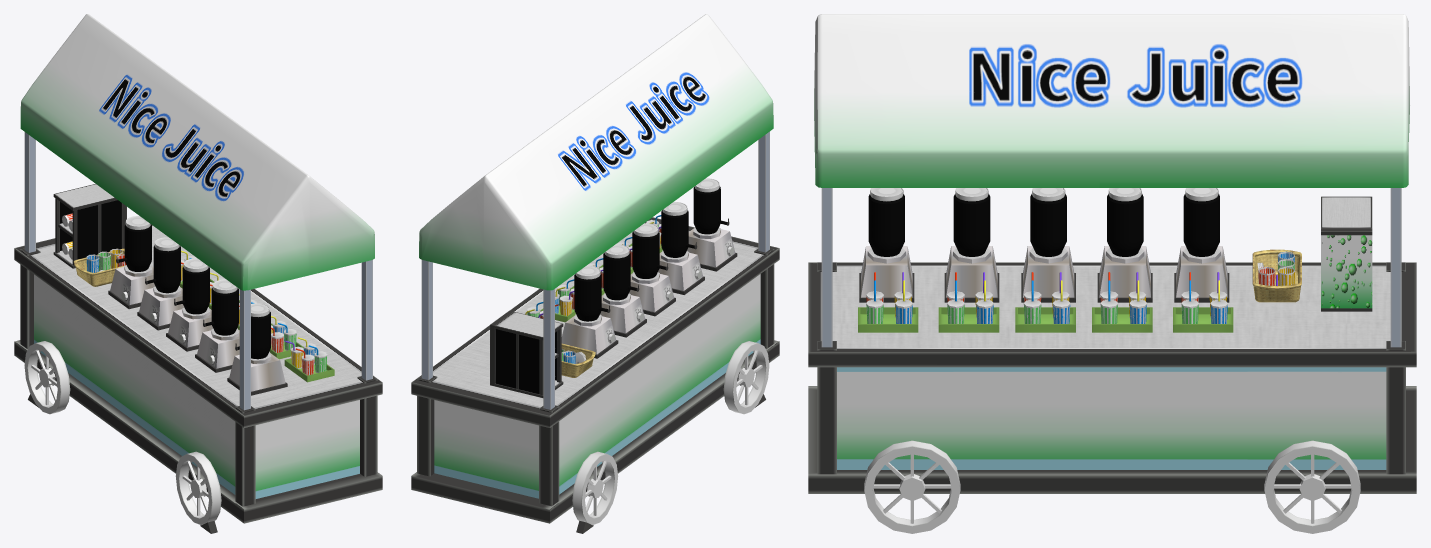
Rendered from JuiceStall.fbx.
3 views of the same model, side by side, from view 1: azimuth 30°, elevation 25°; view 2: azimuth 150°, elevation 25°; view 3: azimuth 270°, elevation 25° (orthographic). The views are drawn at different scales.
Visible parts, largest first — view 1: Roof, Platform, JuiceMixer_Body (×5), JuiceMixer_Glass (×5), PillarB, PillarA, FrontWheel, BackWheel, OtherCase, Glass, Basket, JuiceCup_Case; view 2: Roof, Platform, JuiceMixer_Body (×5), JuiceMixer_Glass (×5), PillarB, PillarA, BackWheel, FrontWheel, OtherCase, Glass, Basket; view 3: Platform, Roof, JuiceMixer_Body (×5), JuiceMixer_Glass (×5), OtherCase, JuiceCup_Case (×5), PillarB, FrontWheel, BackWheel, PillarA, Basket.
Boxes of the visible parts, box(x1,y1,x2,y2) form: Roof: box(20, 14, 374, 290); Platform: box(14, 225, 382, 523); JuiceMixer_Body (×5): box(108, 216, 287, 395); JuiceMixer_Glass (×5): box(118, 224, 270, 359); PillarB: box(20, 224, 377, 509); PillarA: box(24, 132, 372, 410); FrontWheel: box(24, 341, 70, 414); BackWheel: box(175, 451, 221, 524); OtherCase: box(53, 184, 126, 268); Glass: box(77, 200, 121, 259); Basket: box(73, 248, 124, 286); JuiceCup_Case: box(284, 358, 334, 382); Roof: box(419, 14, 773, 290); Platform: box(411, 217, 779, 523); JuiceMixer_Body (×5): box(561, 178, 737, 358); JuiceMixer_Glass (×5): box(574, 186, 727, 321); PillarB: box(417, 219, 774, 509); PillarA: box(421, 131, 769, 409); BackWheel: box(723, 341, 769, 414); FrontWheel: box(572, 451, 618, 524); OtherCase: box(490, 310, 563, 397); Glass: box(495, 329, 539, 394); Basket: box(561, 343, 595, 377); Platform: box(808, 262, 1416, 493); Roof: box(814, 14, 1409, 187); JuiceMixer_Body (×5): box(859, 188, 1229, 302); JuiceMixer_Glass (×5): box(868, 194, 1219, 256); OtherCase: box(1321, 196, 1372, 311); JuiceCup_Case (×5): box(858, 307, 1233, 332); PillarB: box(817, 262, 1405, 474); FrontWheel: box(1264, 440, 1360, 533); BackWheel: box(864, 440, 960, 533); PillarA: box(821, 188, 1401, 347); Basket: box(1252, 249, 1301, 302).
Bounding box in the file's own units: 1440 × 3027 × 3571.
